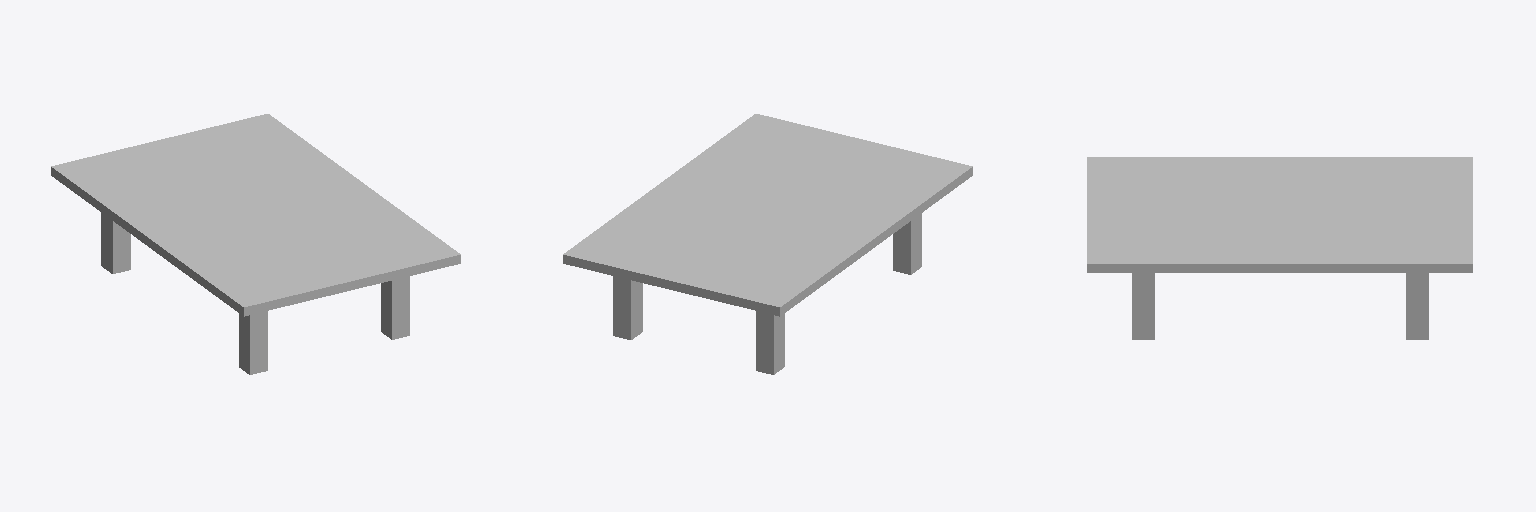
The model's file is table.obj.
3 renders of one model, left to right at view 1: azimuth 30°, elevation 25°; view 2: azimuth 150°, elevation 25°; view 3: azimuth 270°, elevation 25°, orthographic.
Parts seen in each view (by area): view 1: Стол.002_Cube.010; view 2: Стол.002_Cube.010; view 3: Стол.002_Cube.010.
Part boxes in pixels (x1,y1,x2,y2): Стол.002_Cube.010: (51, 114, 460, 374); Стол.002_Cube.010: (563, 114, 972, 374); Стол.002_Cube.010: (1087, 157, 1472, 339).
Size of the model in its own units: 2 by 0.8002 by 3.07.